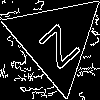Z: (30, 15, 82, 70)
